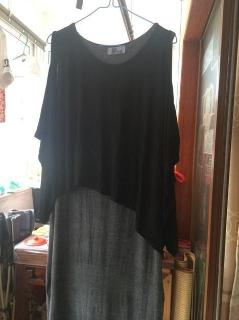vest: (46, 22, 172, 319)
vest dress: (34, 22, 181, 257)
